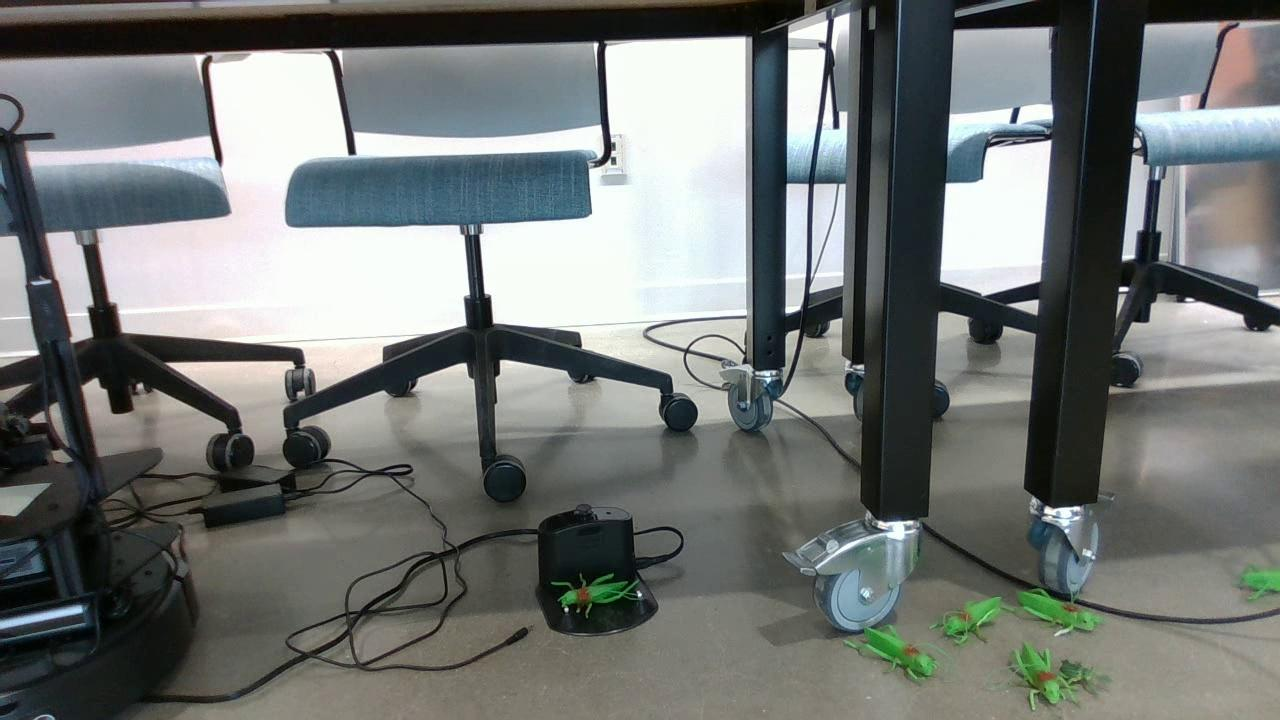grasshopper: (837, 620, 945, 687), (1007, 583, 1113, 638), (1006, 642, 1077, 707), (934, 592, 1006, 650), (548, 573, 650, 613), (1231, 561, 1280, 602)
